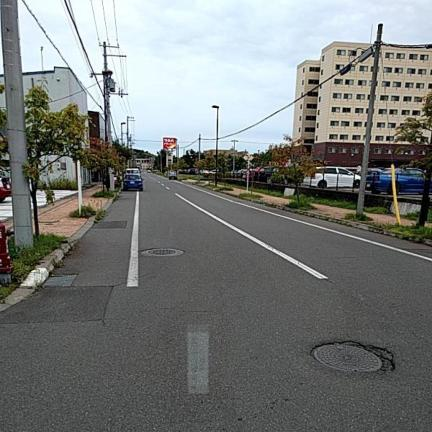Road: (0, 175, 431, 431)
